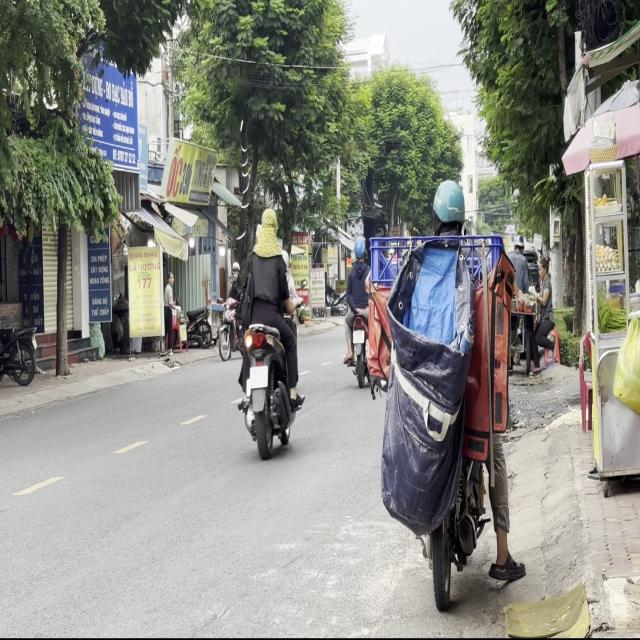helmet: (431, 176, 466, 234)
licenseplate: (372, 173, 528, 616), (234, 205, 303, 458)
motorcyclist: (253, 206, 280, 252)
nohelmet: (250, 366, 268, 388)
